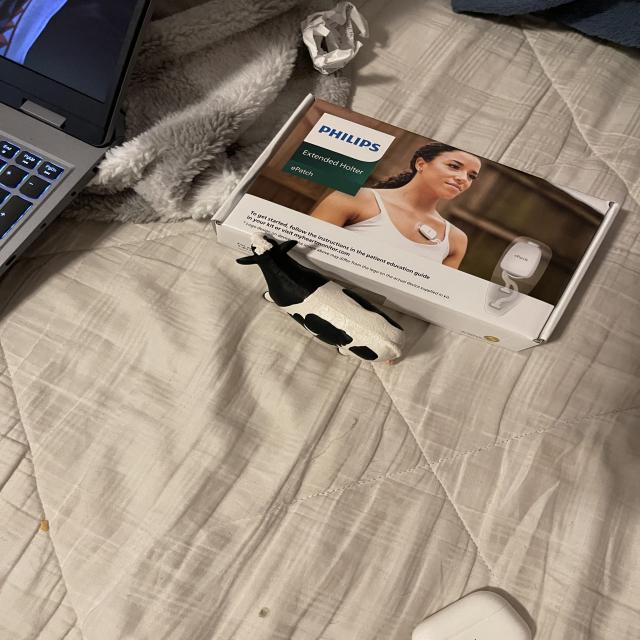cow: (226, 218, 415, 387)
